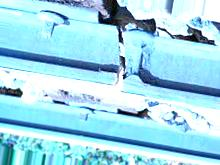tracks_fault: (103, 17, 146, 114)
